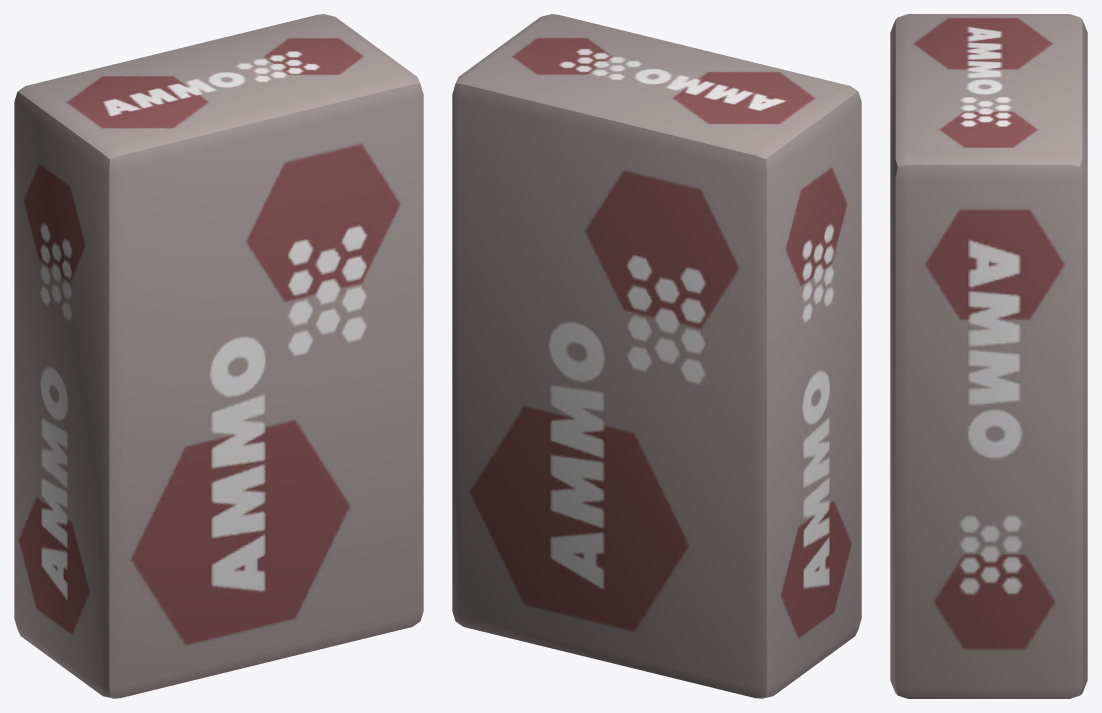
The model's file is ammo automatic.glb.
The picture shows the model from 3 angles, left to right: view 1: azimuth 30°, elevation 25°; view 2: azimuth 150°, elevation 25°; view 3: azimuth 270°, elevation 25°; orthographic projection.
Visible parts, largest first — view 1: Automatic_Ammo; view 2: Automatic_Ammo; view 3: Automatic_Ammo.
Boxes of the visible parts, x1=… form: Automatic_Ammo: x1=14, y1=14, x2=423, y2=698; Automatic_Ammo: x1=452, y1=14, x2=861, y2=698; Automatic_Ammo: x1=890, y1=14, x2=1087, y2=698.
Size of the model in its own units: 0.3125 by 0.5104 by 0.1677.
1 material, 1 textured.
